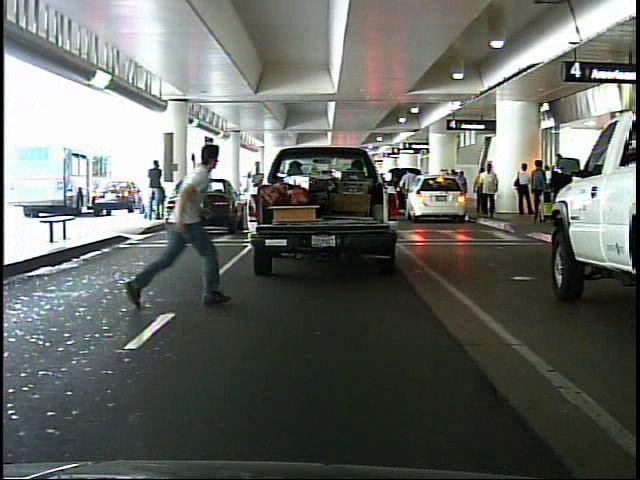person: (113, 124, 236, 318), (472, 156, 500, 224), (530, 158, 552, 225), (514, 156, 537, 219), (147, 157, 169, 219)
